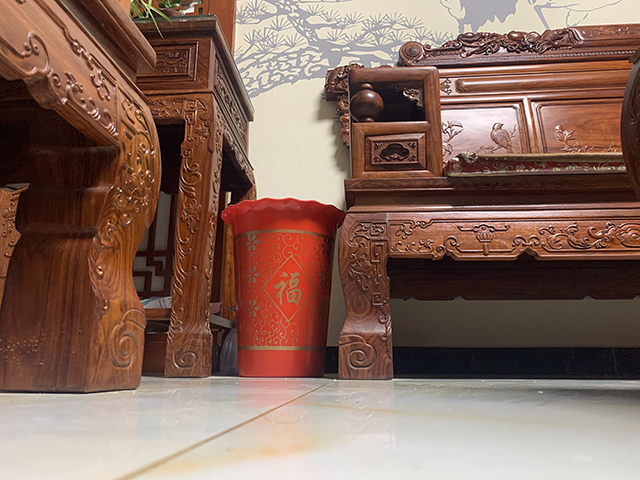sofa: (321, 22, 640, 382)
trashcan: (220, 197, 346, 377)
